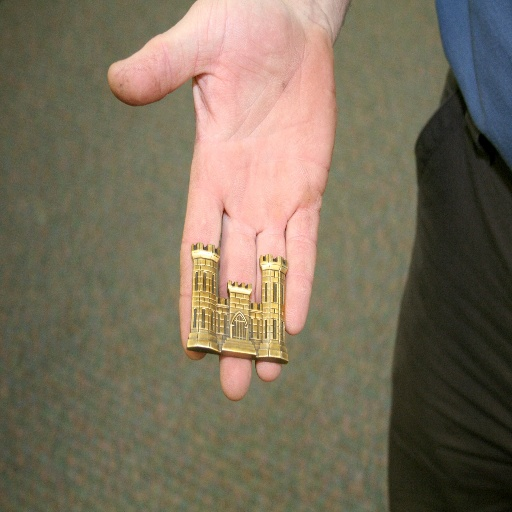hand: (105, 0, 338, 403)
